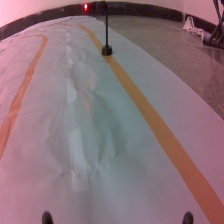red: (81, 1, 113, 59)
